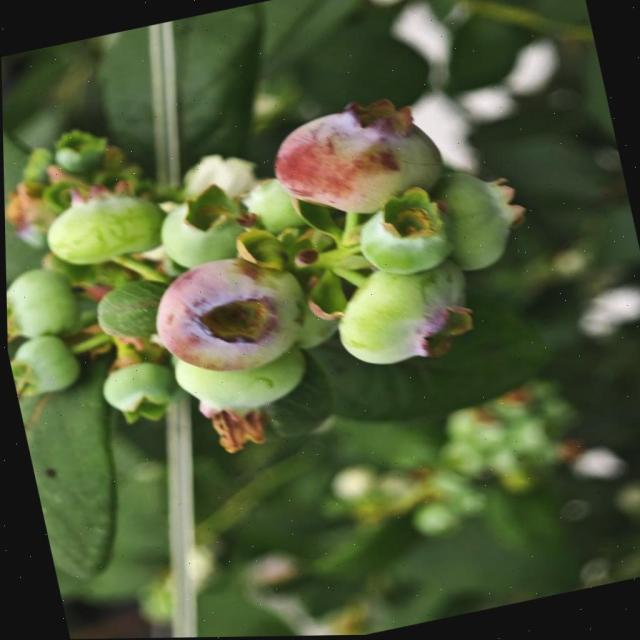Semi-RipeBlueBerry: (260, 91, 450, 232), (141, 243, 320, 388)
UnripeBlueBerry: (322, 250, 484, 379), (348, 182, 463, 284)
